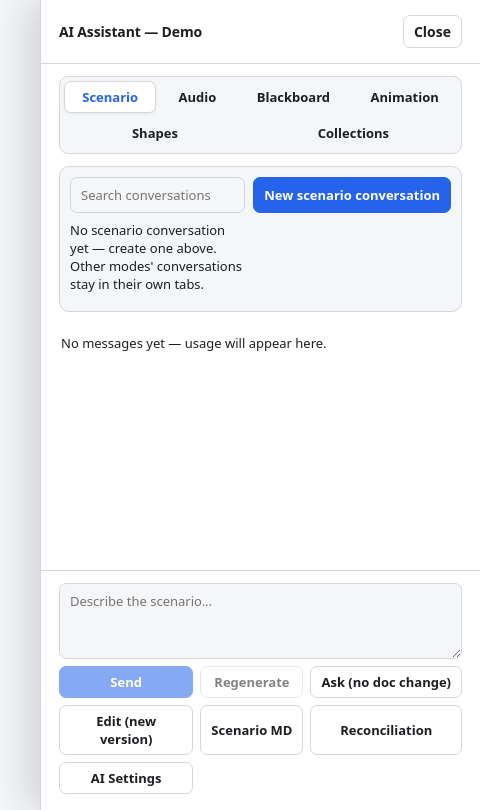
it: AiPanel token usage › collapses animation details by default and expands on toggle
Click the button with test id "ai-mode-animation" at (405, 97), box [352, 81, 457, 113]
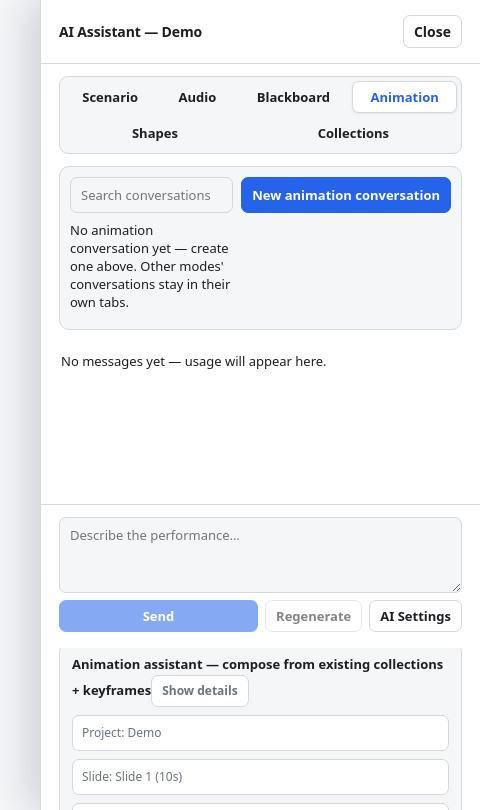
Result: the element with test id "ai-animation-section" is shown at [59, 642, 462, 809]
Result: the button with test id "ai-animation-toggle" reads "Show details"
Click the button with test id "ai-animation-toggle" at (200, 690), box [151, 674, 249, 706]
(page scrolled)
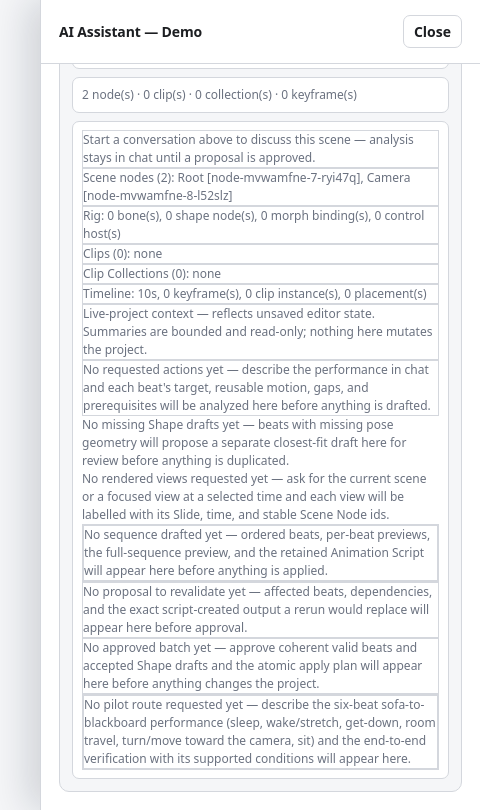
Result: the element with test id "ai-animation-details" is shown
